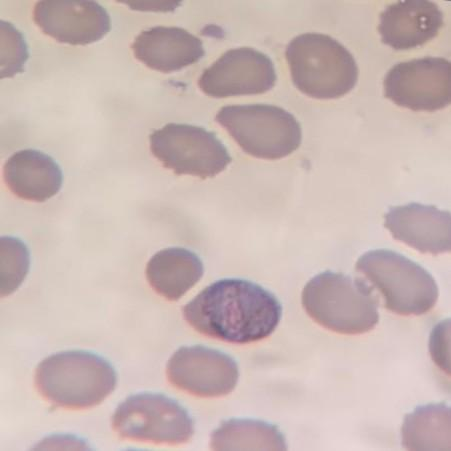Infected: (182, 278, 282, 346)
Uninfected: (355, 248, 438, 315), (286, 29, 361, 103), (300, 272, 379, 337), (34, 350, 117, 409), (217, 104, 302, 160), (150, 123, 229, 180), (110, 392, 193, 443), (197, 47, 277, 98), (165, 344, 243, 395), (382, 58, 451, 115), (381, 200, 451, 255), (145, 244, 207, 304), (29, 0, 111, 45), (1, 147, 64, 204), (132, 24, 202, 73), (378, 0, 442, 53)
